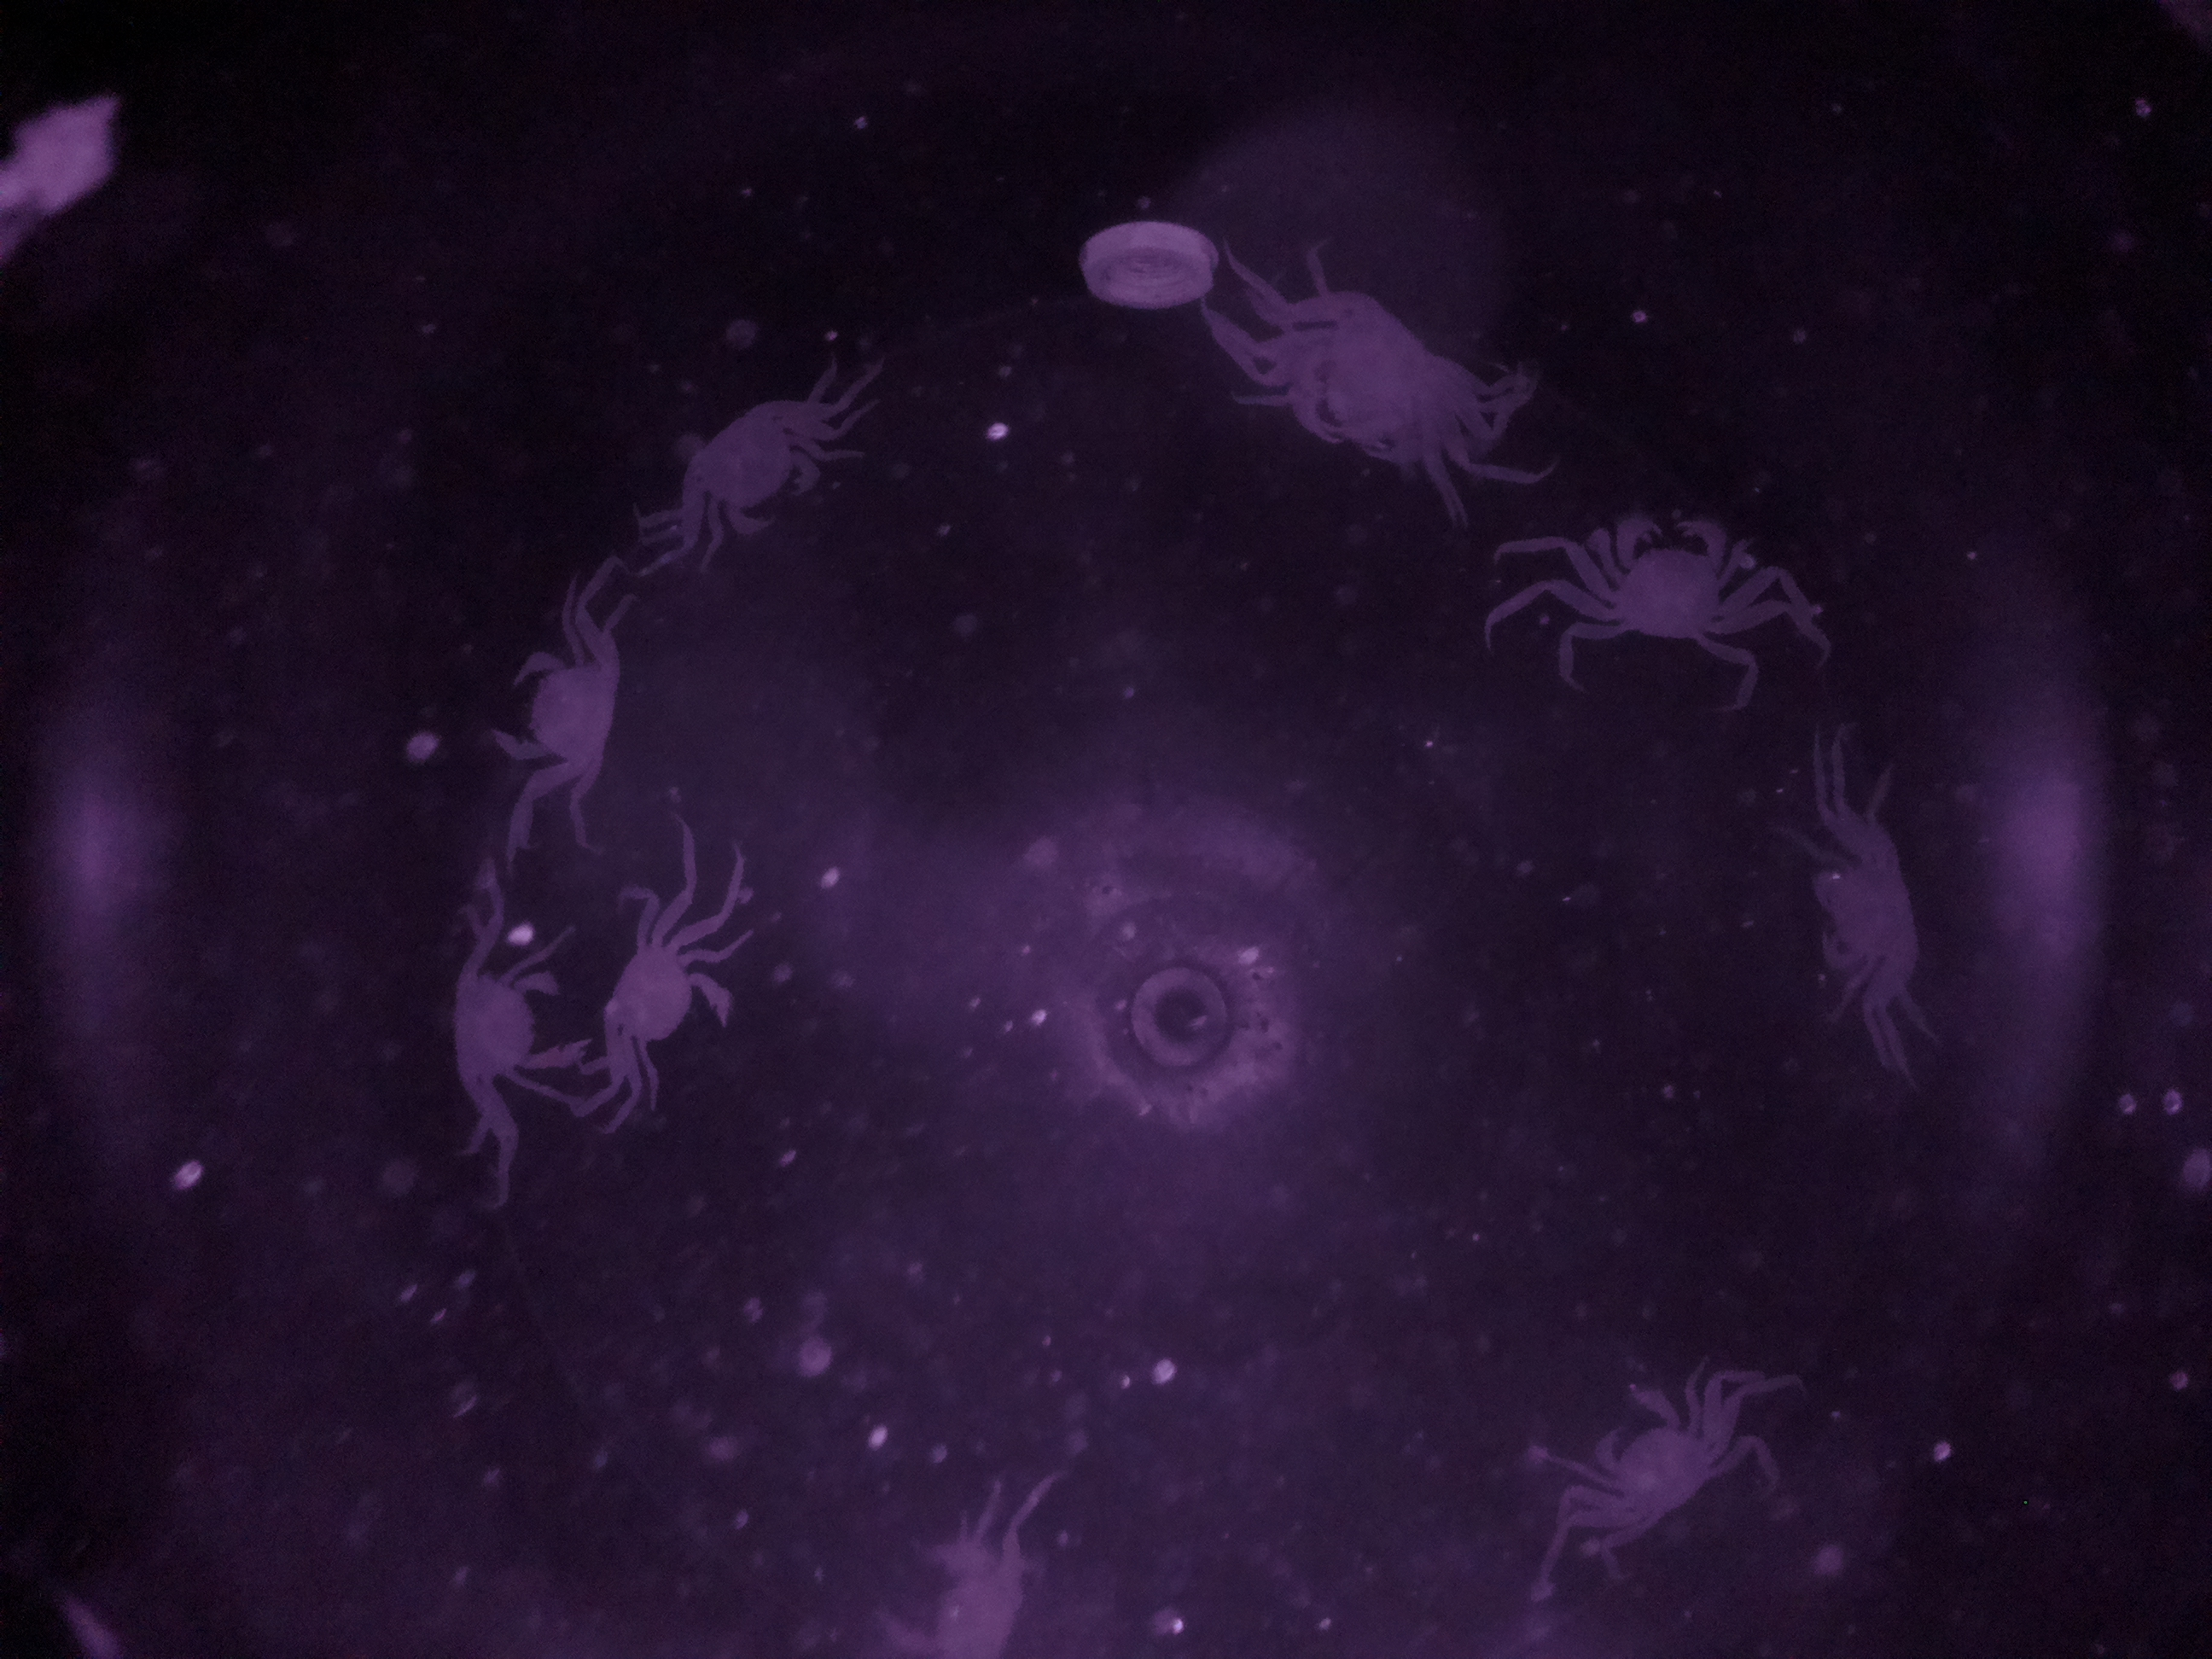Crab: (1548, 493, 1764, 660), (1548, 1364, 1740, 1551), (427, 910, 597, 1119), (662, 359, 833, 558), (587, 889, 742, 1098), (482, 610, 634, 807)
